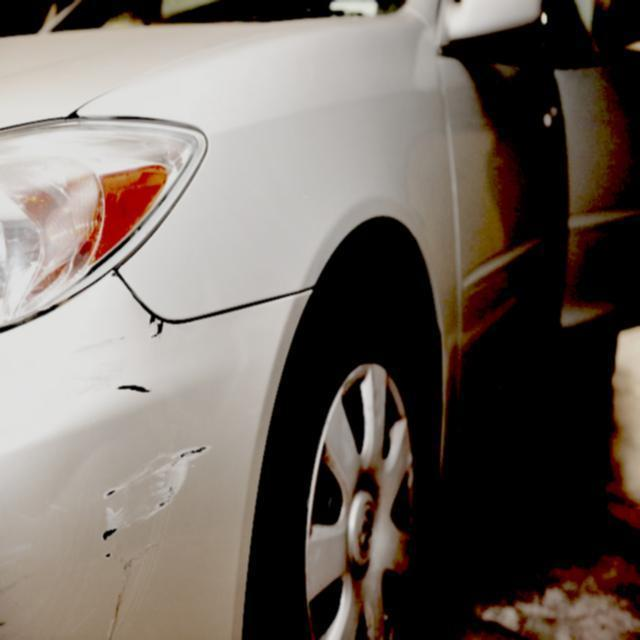minor: (29, 430, 98, 517), (107, 538, 148, 640)
moderate: (103, 381, 215, 539)
